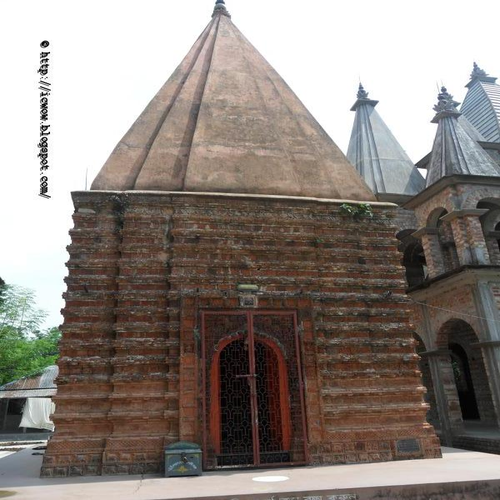Temple: (60, 4, 424, 468)
